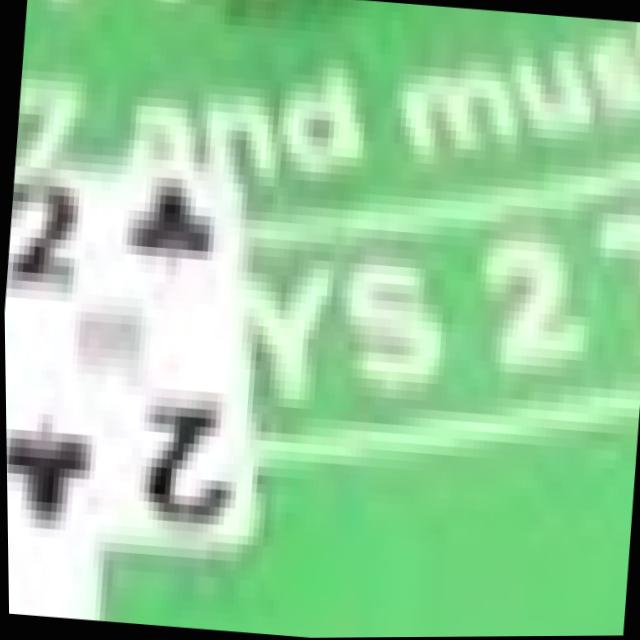Card-2: (4, 163, 256, 545)
